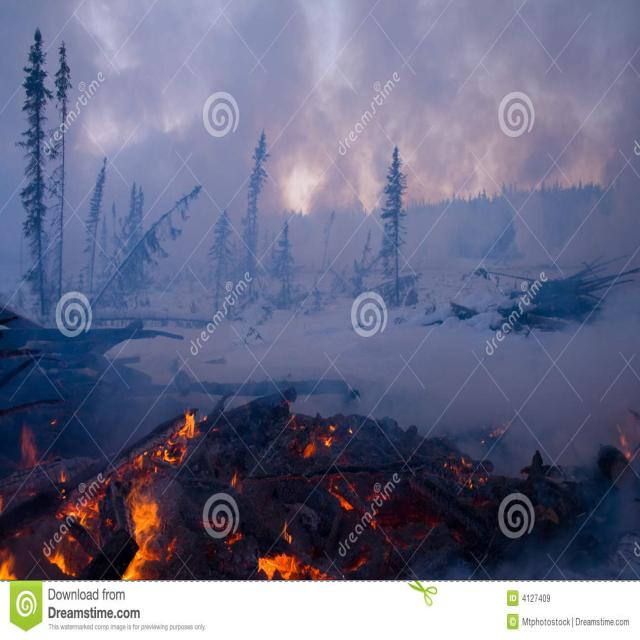Fire: (19, 401, 204, 566), (244, 520, 330, 582)
Smoke: (30, 11, 610, 292)
